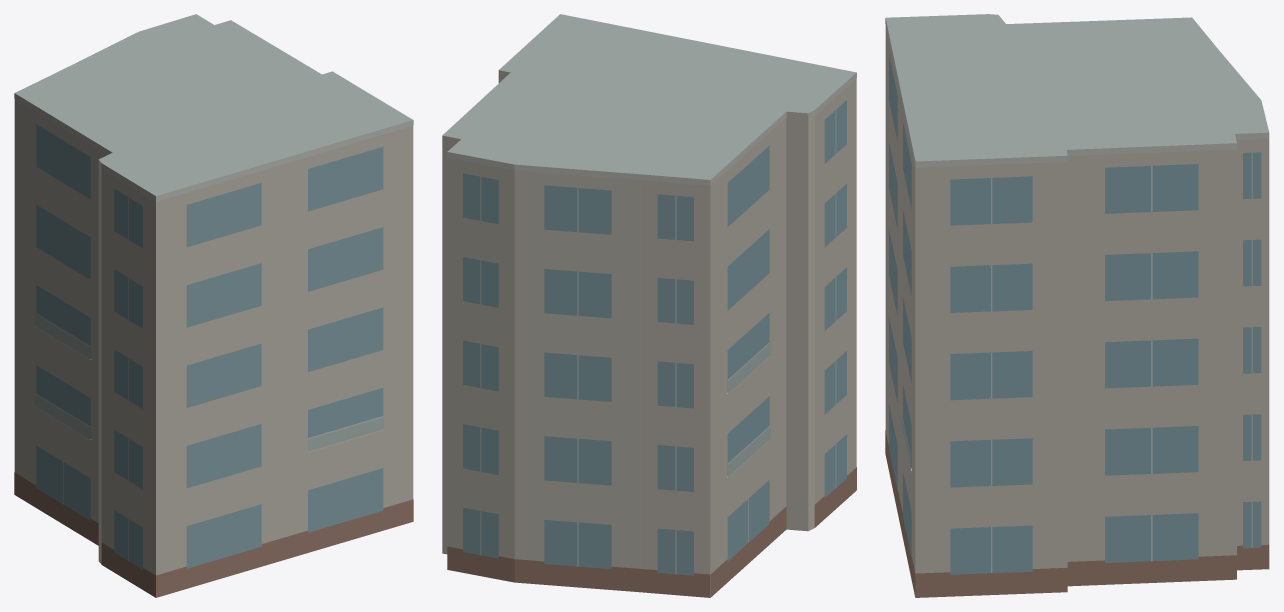
Rendered from survey-upis-32536088.glb.
The picture shows the model from 3 angles, left to right: view 1: azimuth 30°, elevation 25°; view 2: azimuth 150°, elevation 25°; view 3: azimuth 270°, elevation 25°; orthographic projection. The views are drawn at different scales.
Parts seen in each view (by area): view 1: survey-upis-32536088.tmp; view 2: survey-upis-32536088.tmp; view 3: survey-upis-32536088.tmp.
Part boxes in pixels (x1,y1,x2,y2): survey-upis-32536088.tmp: [14, 14, 413, 597]; survey-upis-32536088.tmp: [442, 14, 856, 597]; survey-upis-32536088.tmp: [885, 14, 1269, 597].
Size of the model in its own units: 12.47 by 17.2 by 13.72.
